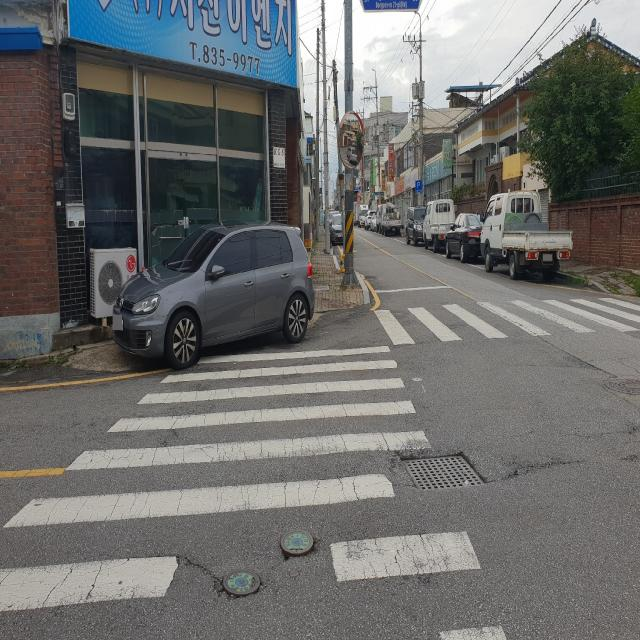횡단보도: (0, 339, 510, 640), (365, 299, 640, 345)
